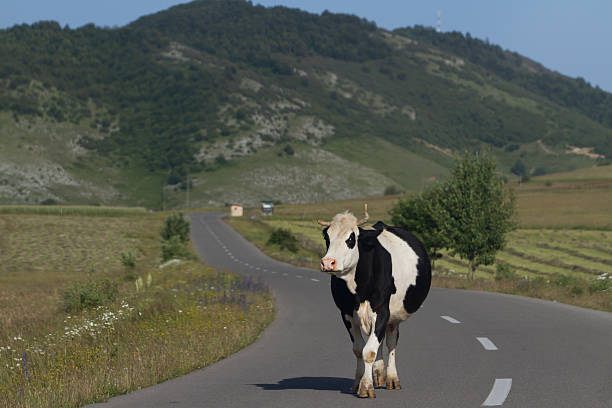inek: (311, 207, 444, 407)
